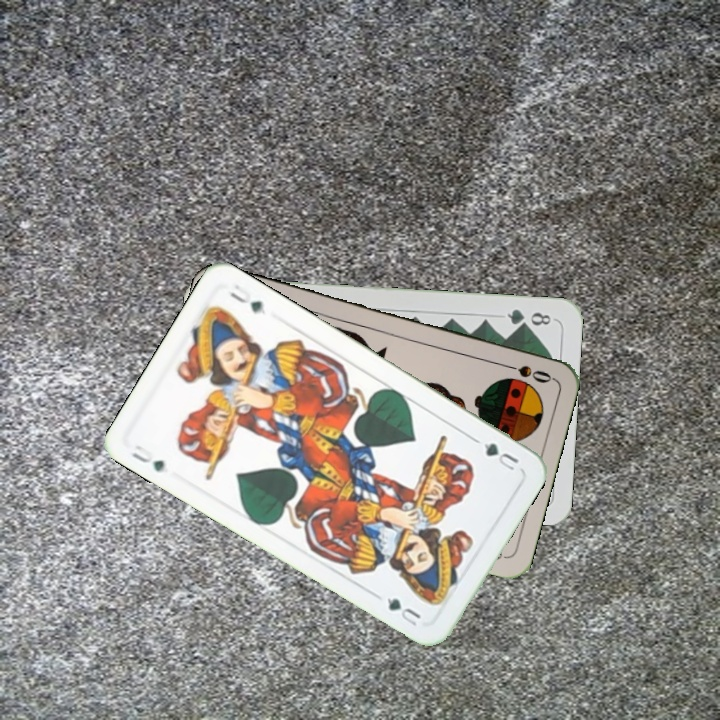G8: (503, 305, 554, 329)
GU: (479, 438, 522, 474), (127, 441, 168, 475)
SO: (496, 359, 554, 386)
